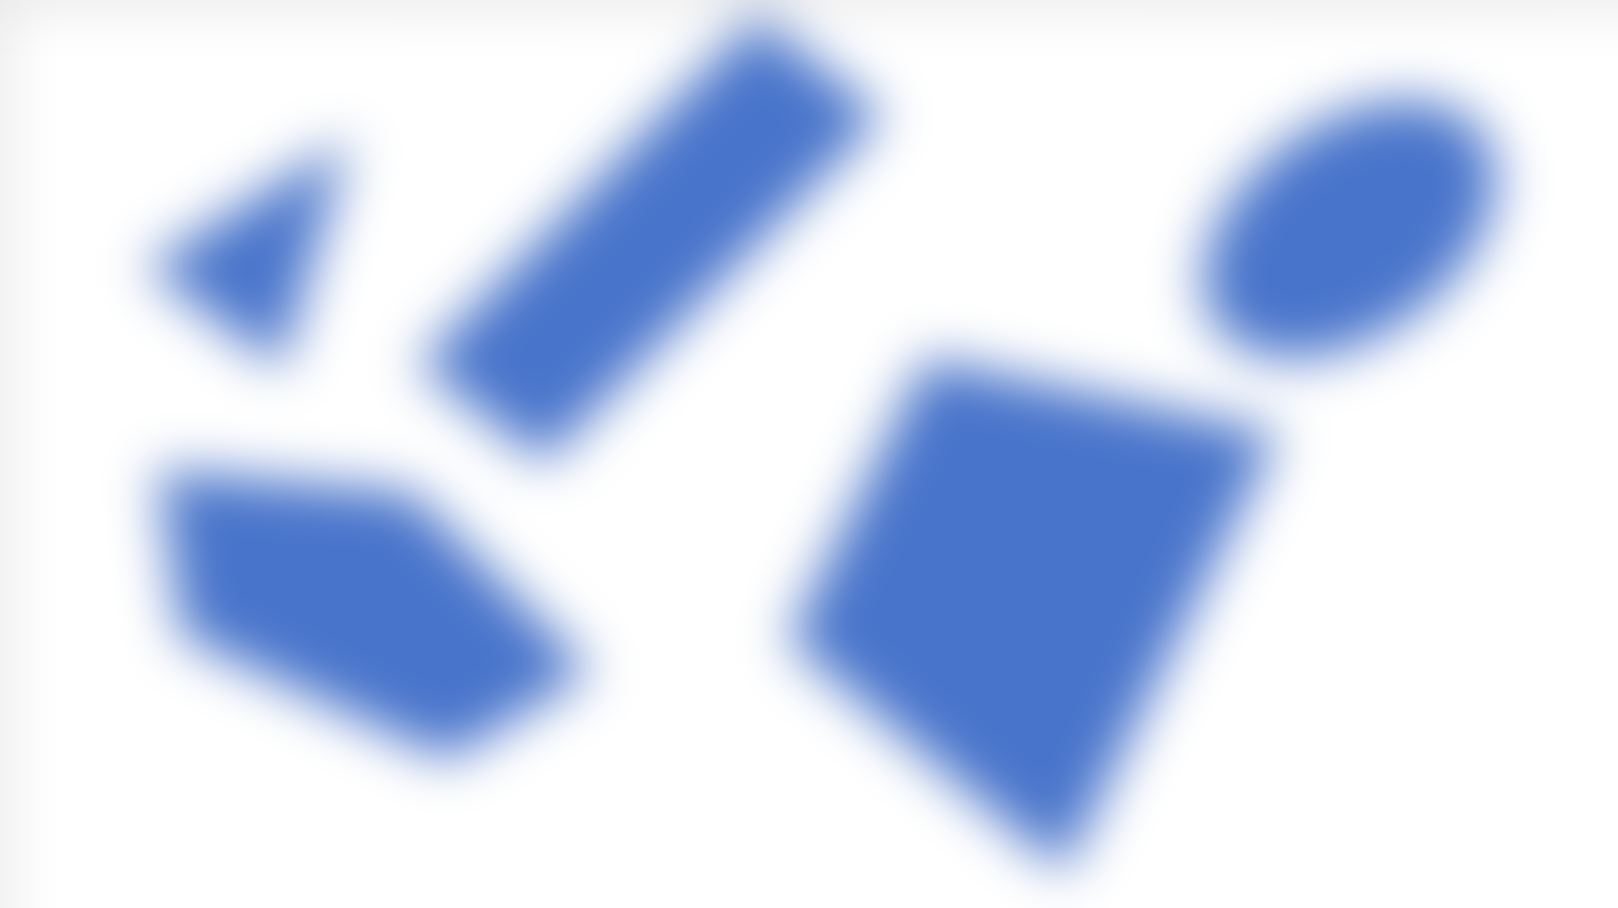circle: (1163, 52, 1540, 369)
parallelogram: (402, 27, 913, 452)
trapezium: (771, 351, 1299, 872), (127, 457, 615, 776)
triangle: (142, 94, 370, 388)
